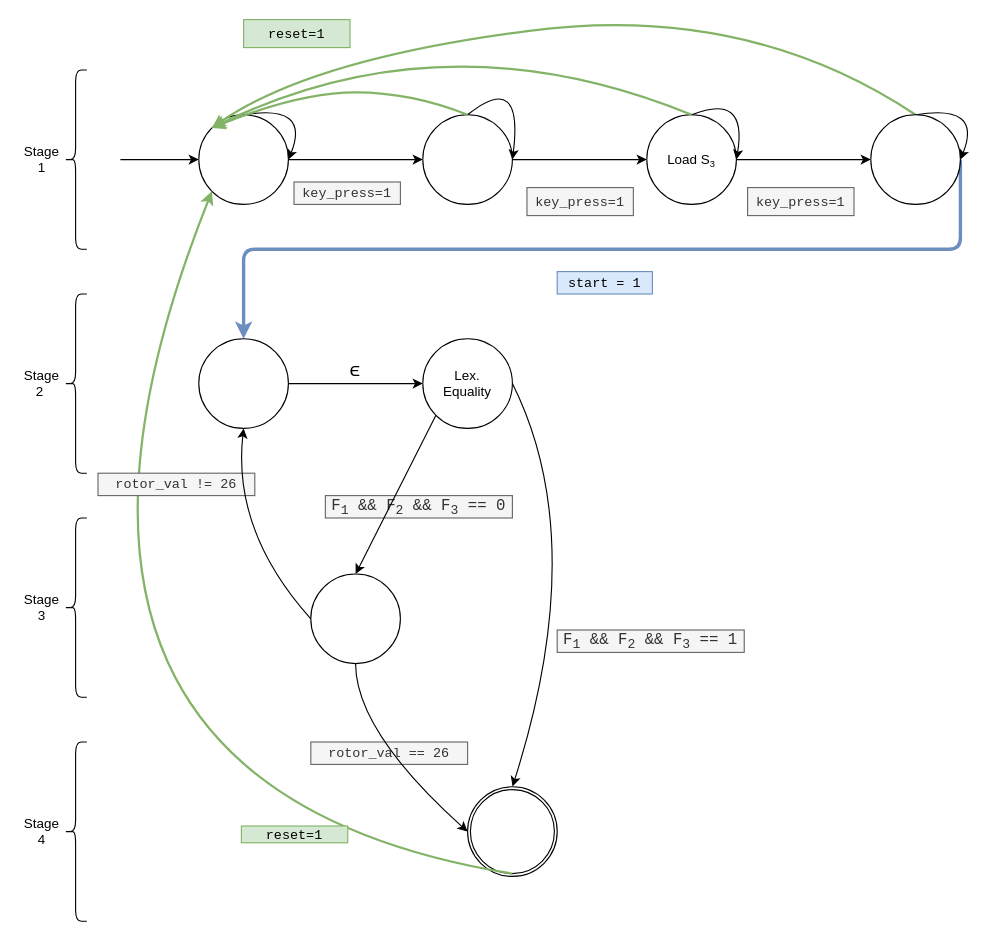
Some shapes in this 990 by 941 pixel diagram are drawn without their labels. The centre of each missing label's shape, as x and y in pixels:
"Increment Rotor" goes at point 355,618.
"Input_End" goes at point 915,159.
"Lex. Shift" goes at point 243,383.
"Load S 1" goes at point 243,159.
"Load S 2" goes at point 467,159.
"Result / rotor_val" goes at point 511,831.
